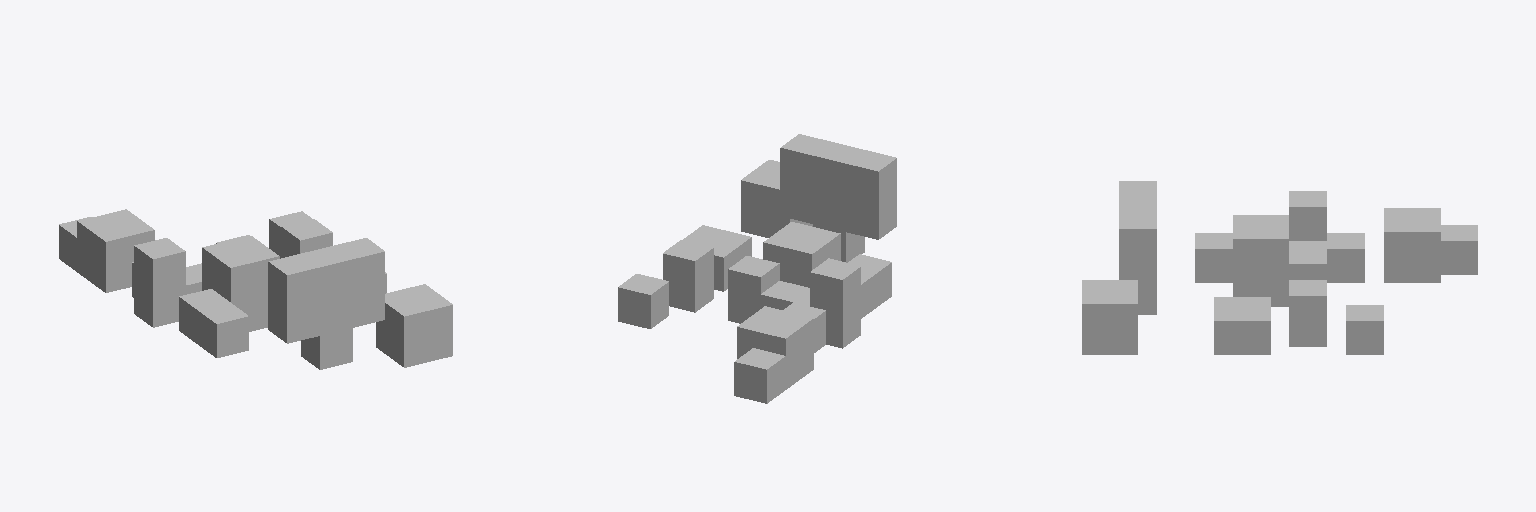
Rendered from Farm House-1.obj.
3 renders of one model, left to right at view 1: azimuth 30°, elevation 25°; view 2: azimuth 150°, elevation 25°; view 3: azimuth 270°, elevation 25°, orthographic.
Parts seen in each view (by area): view 1: object 1; view 2: object 1; view 3: object 1.
Part boxes in pixels (bbox=[...]): object 1: bbox=[59, 209, 452, 369]; object 1: bbox=[618, 134, 896, 403]; object 1: bbox=[1082, 181, 1477, 354].
Size of the model in its own units: 1.2 by 0.6 by 2.1.